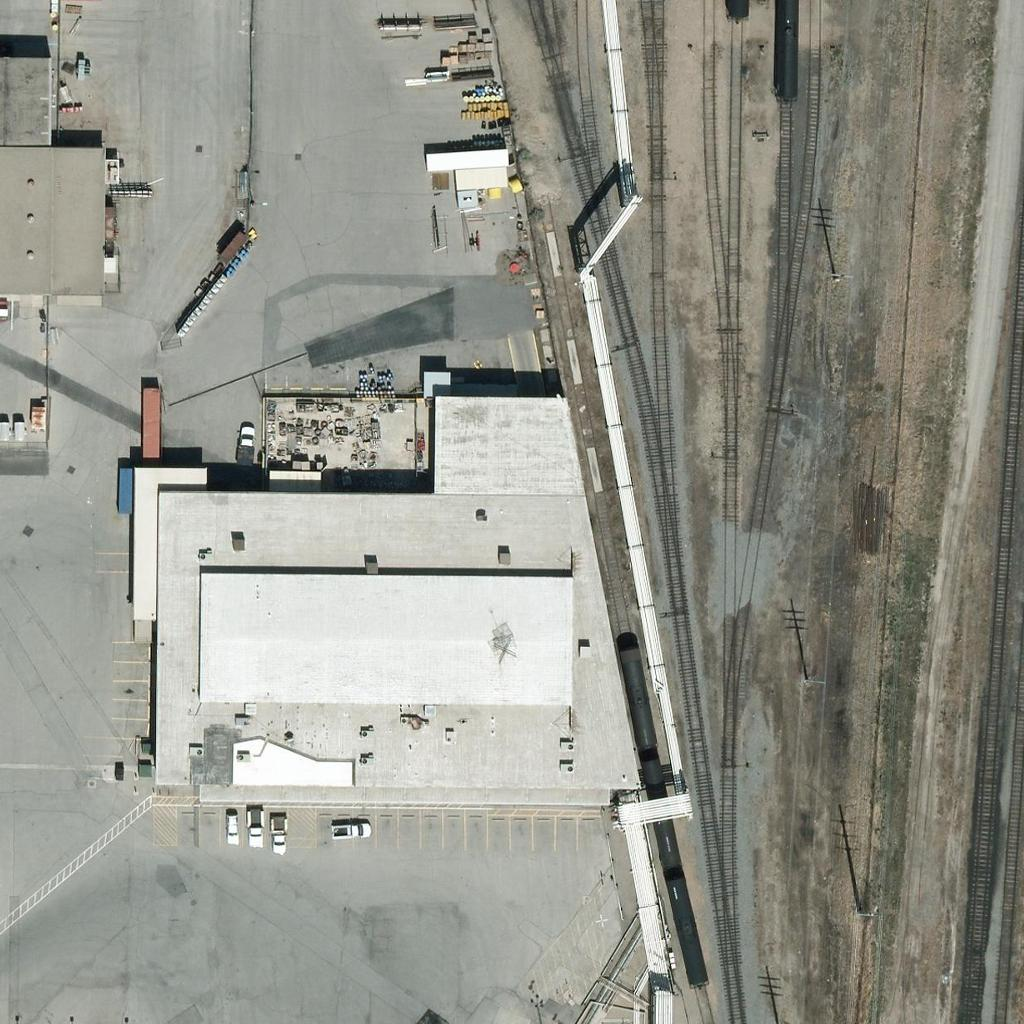car: (228, 424, 262, 458), (213, 810, 247, 844), (336, 812, 370, 846), (238, 814, 272, 848), (262, 822, 296, 856)
